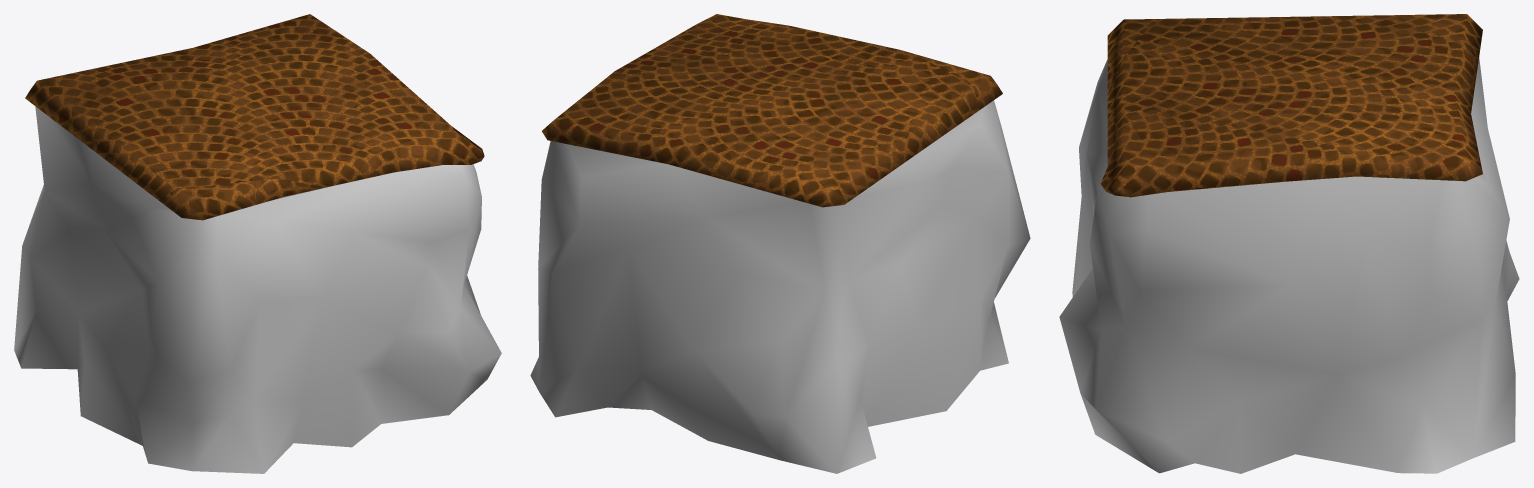
Rendered from FloorExtensionCube.fbx.
3 views of the same model, side by side, from view 1: azimuth 30°, elevation 25°; view 2: azimuth 150°, elevation 25°; view 3: azimuth 270°, elevation 25° (orthographic). The views are drawn at different scales.
Parts seen in each view (by area): view 1: Cube.008; view 2: Cube.008; view 3: Cube.008.
Part boxes in pixels (x1,y1,x2,y2): Cube.008: [14, 14, 501, 473]; Cube.008: [530, 14, 1030, 473]; Cube.008: [1059, 14, 1519, 473].
Size of the model in its own units: 282 by 212 by 291.
